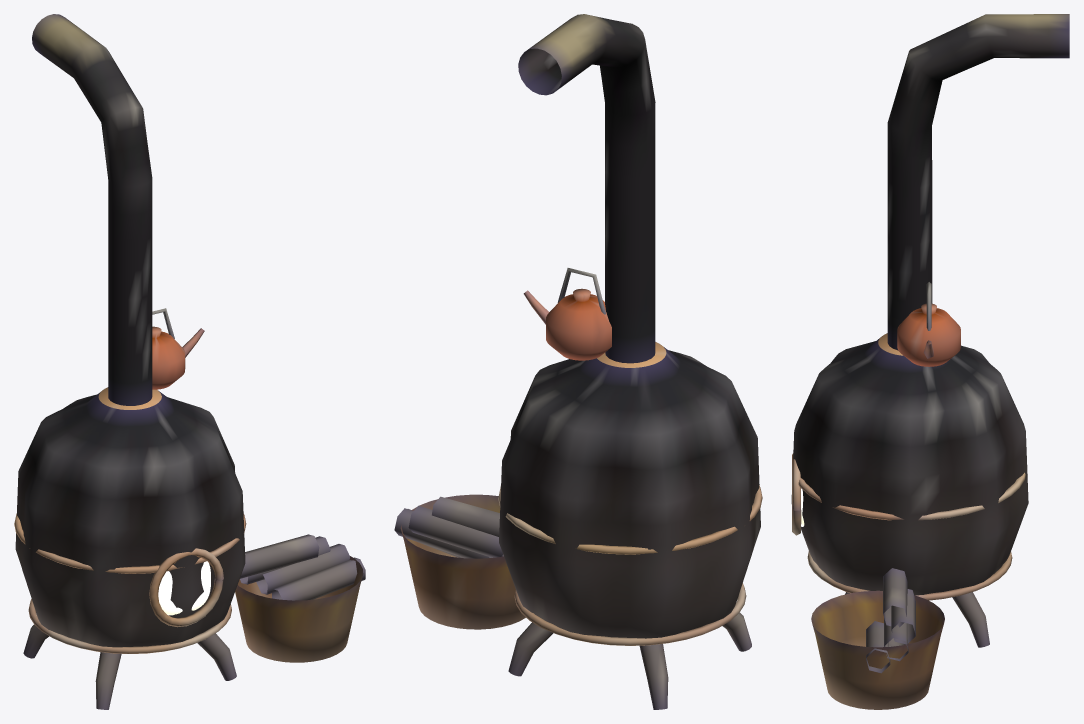
File: gaudi_soba.glb
3 renders of one model, left to right at view 1: azimuth 30°, elevation 25°; view 2: azimuth 150°, elevation 25°; view 3: azimuth 270°, elevation 25°, orthographic. The views are drawn at different scales.
Visible parts, largest first — view 1: gaudi_soba_LOD0; view 2: gaudi_soba_LOD0; view 3: gaudi_soba_LOD0.
Part boxes in pixels (x1=…): gaudi_soba_LOD0: x1=14, y1=14, x2=365, y2=709; gaudi_soba_LOD0: x1=394, y1=14, x2=762, y2=709; gaudi_soba_LOD0: x1=791, y1=14, x2=1069, y2=709.
Size of what is drawn, in the model's own units: 1.15 by 2.08 by 0.8717.
